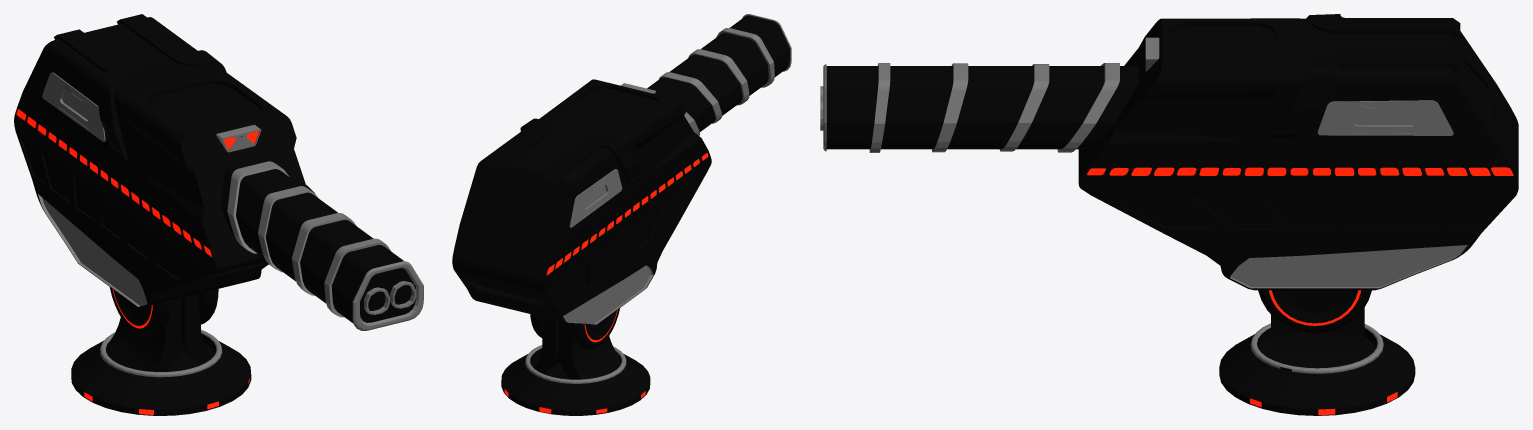
Rendered from turret.fbx.
The picture shows the model from 3 angles, left to right: view 1: azimuth 30°, elevation 25°; view 2: azimuth 150°, elevation 25°; view 3: azimuth 270°, elevation 25°; orthographic projection. The views are drawn at different scales.
Visible parts, largest first — view 1: Body, Base, Rotate; view 2: Body, Base, Rotate; view 3: Body, Base, Rotate.
Boxes of the visible parts, x1,y1,x2,y2 form: Body: [14, 14, 423, 337]; Base: [71, 330, 251, 415]; Rotate: [107, 293, 212, 371]; Body: [452, 14, 791, 349]; Base: [501, 345, 650, 415]; Rotate: [533, 317, 620, 379]; Body: [820, 14, 1518, 333]; Base: [1219, 323, 1415, 415]; Rotate: [1271, 308, 1364, 368].
Size of the model in its own units: 106 by 200 by 379.
